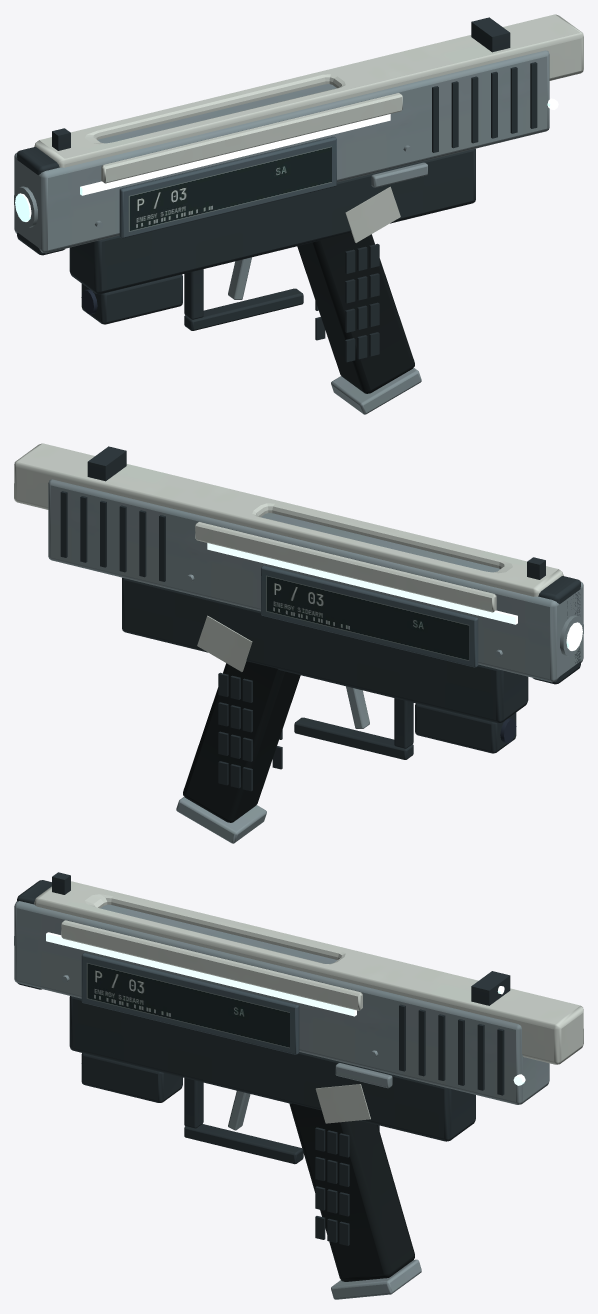
Rendered from sidearm-pistol.glb.
3 renders of one model, top to bottom at view 1: azimuth 30°, elevation 25°; view 2: azimuth 150°, elevation 25°; view 3: azimuth 330°, elevation 25°, orthographic.
Visible parts, largest first — view 1: sidearm-pistol_HandheldFinish, sidearm-pistol_Mint; view 2: sidearm-pistol_HandheldFinish, sidearm-pistol_Mint; view 3: sidearm-pistol_HandheldFinish, sidearm-pistol_Mint.
Boxes of the visible parts, x1,y1,x2,y2 form: sidearm-pistol_HandheldFinish: [14, 14, 583, 414]; sidearm-pistol_Mint: [15, 98, 558, 221]; sidearm-pistol_HandheldFinish: [14, 443, 583, 843]; sidearm-pistol_Mint: [207, 543, 582, 650]; sidearm-pistol_HandheldFinish: [14, 872, 583, 1299]; sidearm-pistol_Mint: [46, 932, 525, 1085].
Size of the model in its own units: 0.303 by 0.1802 by 0.042.
3 materials, 1 textured.
